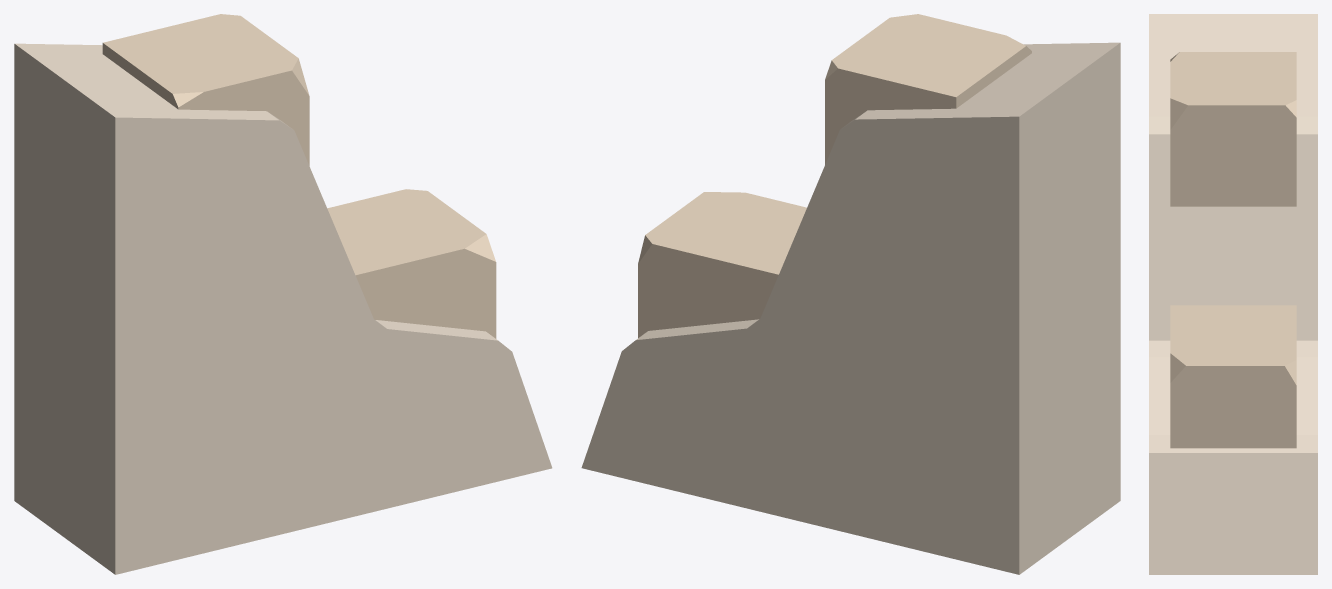
Rendered from temple_Wall_Ruined_Corner_Outer_1.glb.
3 renders of one model, left to right at view 1: azimuth 30°, elevation 25°; view 2: azimuth 150°, elevation 25°; view 3: azimuth 270°, elevation 25°, orthographic. The views are drawn at different scales.
Visible parts, largest first — view 1: object1; view 2: object1; view 3: object1.
Boxes of the visible parts, x1=… form: object1: x1=14, y1=14, x2=552, y2=574; object1: x1=581, y1=14, x2=1120, y2=574; object1: x1=1149, y1=14, x2=1317, y2=574.
Bounding box in the file's own units: 0.5 × 0.5 × 0.2.
